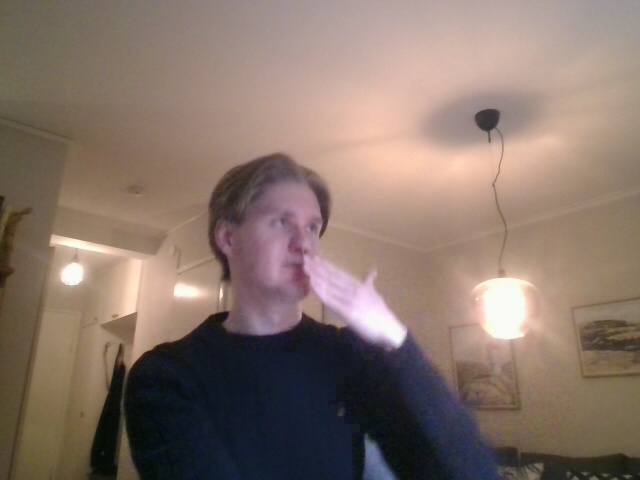ThankYou: (282, 253, 390, 347)
